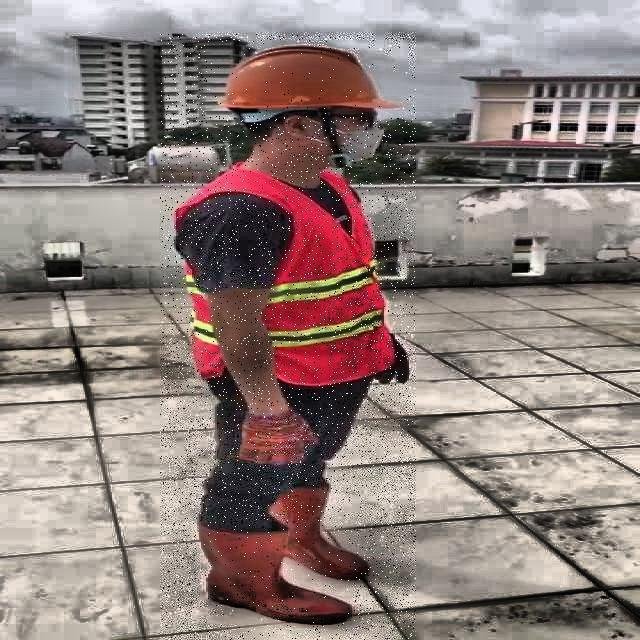safety_helmet: (208, 42, 410, 116)
safety_jacket: (183, 174, 394, 382)
